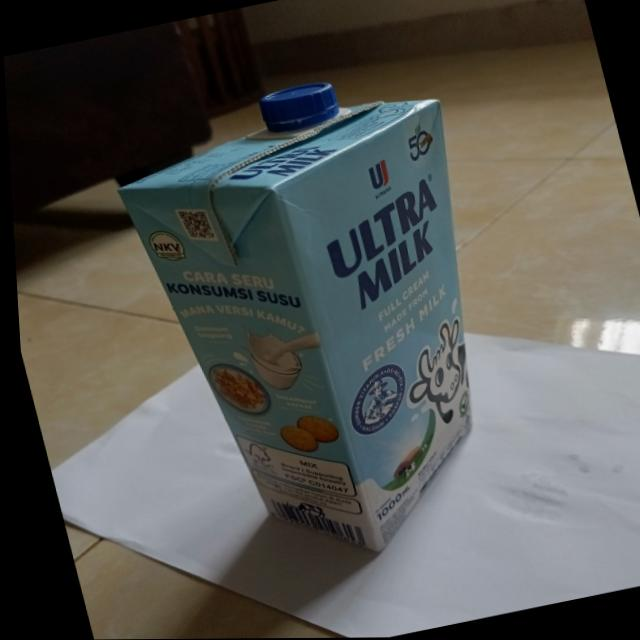indomie-mie-kocok-bandung: (94, 53, 545, 588)
